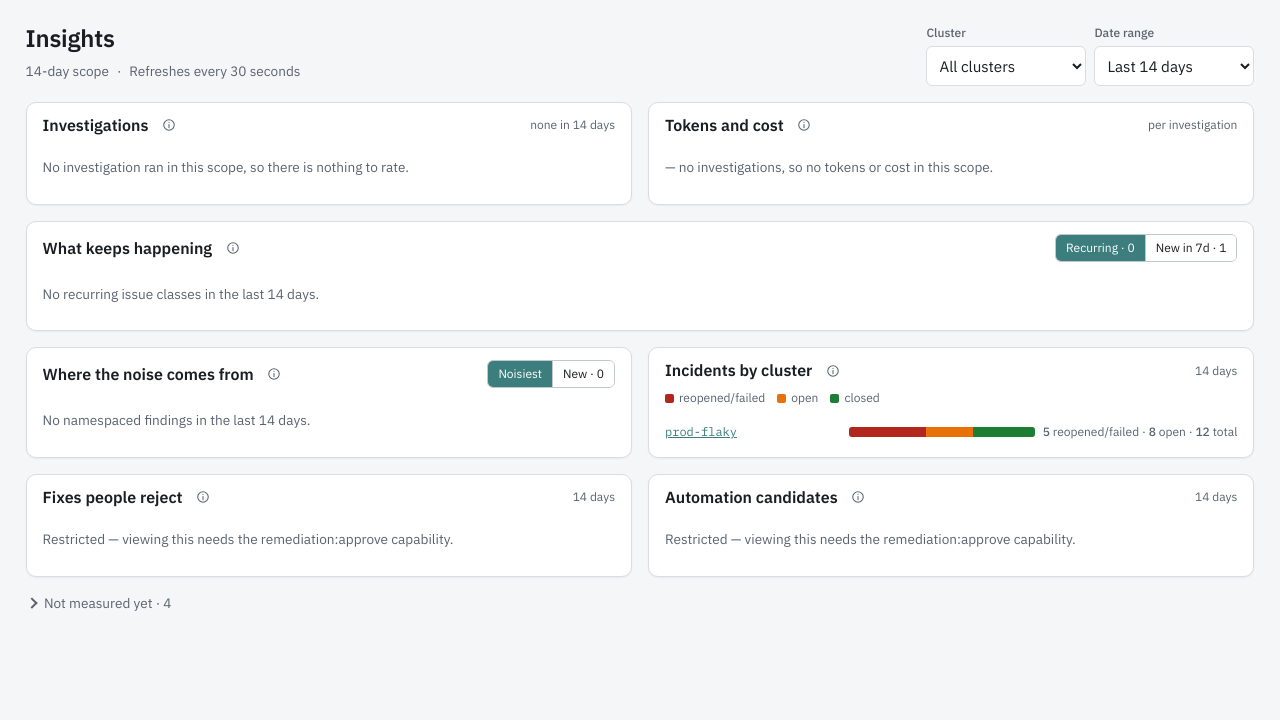
Test: InsightsPage — new in this window (BUGS.md 121 part b) › renders a new issue class with its real counts and "First seen" rather than "Last seen"
The width and height of the screenshot is (1280, 720).
Check: the heading "What keeps happening" is shown, box [43, 238, 212, 258]
What coordinates should you click on to do the following:
click the button "New in 7d · 1"
I would click on:
 (1191, 248)
Its box is [1146, 235, 1236, 261].
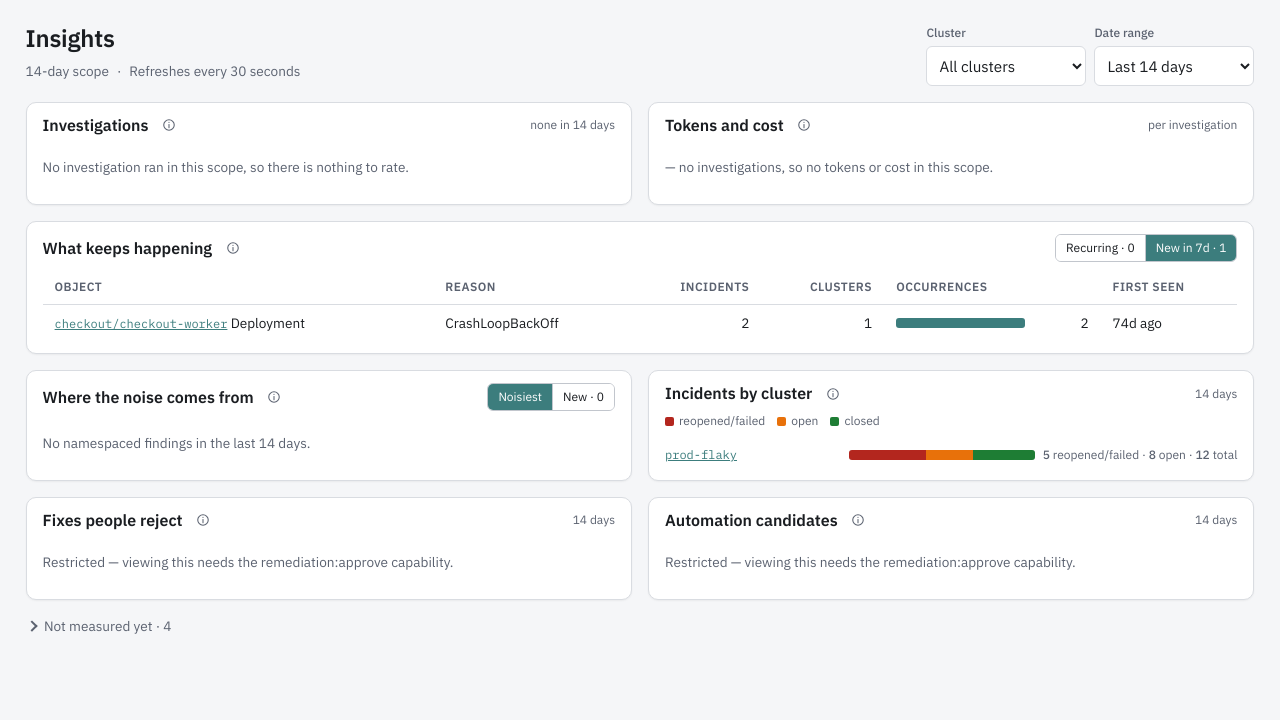
Check: the link "checkout/checkout-worker" is shown, box [55, 316, 227, 331]
Check: the text "CrashLoopBackOff" is shown, box [433, 304, 629, 341]
Check: the column heading "First seen" is shown, box [1101, 270, 1237, 304]
